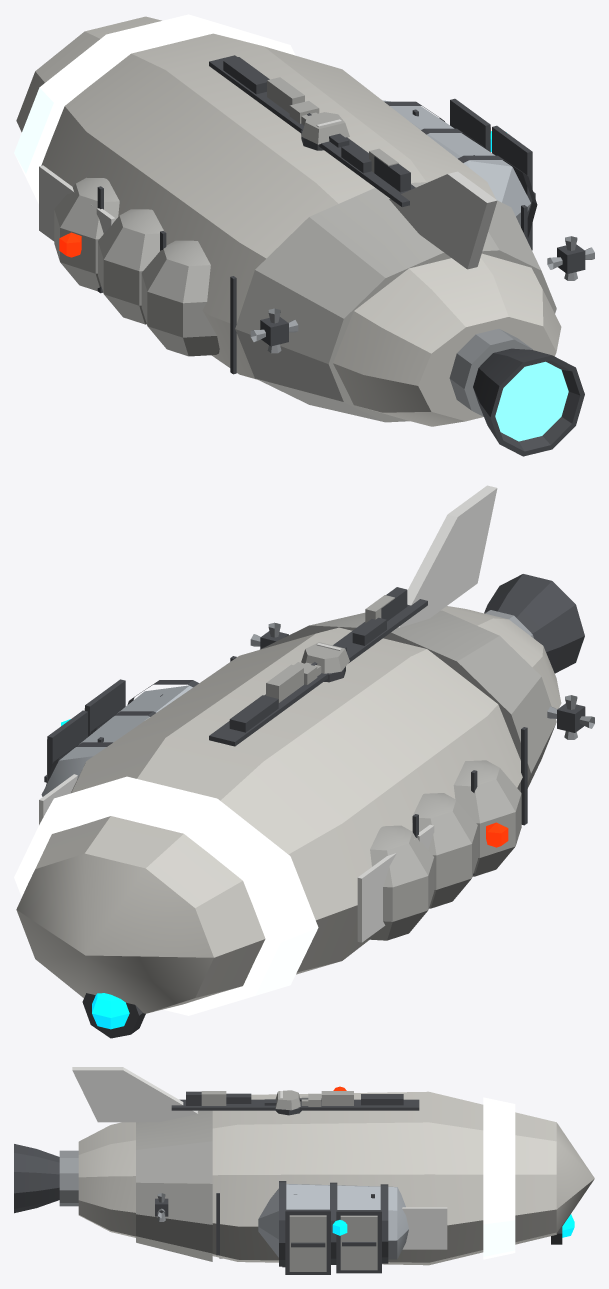
File: pip.glb
The picture shows the model from 3 angles, top to bottom: view 1: azimuth 30°, elevation 25°; view 2: azimuth 150°, elevation 25°; view 3: azimuth 270°, elevation 25°; orthographic projection. The views are drawn at different scales.
Parts seen in each view (by area): view 1: Hull, Turret_6; view 2: Hull, Turret_6; view 3: Hull, Turret_6.
Part boxes in pixels (x1,y1,x2,y2): Hull: (14, 14, 594, 456); Turret_6: (301, 112, 349, 150); Hull: (14, 485, 594, 1038); Turret_6: (301, 642, 349, 682); Hull: (14, 1067, 594, 1274); Turret_6: (275, 1090, 321, 1115).
Size of the model in its own units: 1.13 by 0.7302 by 2.
